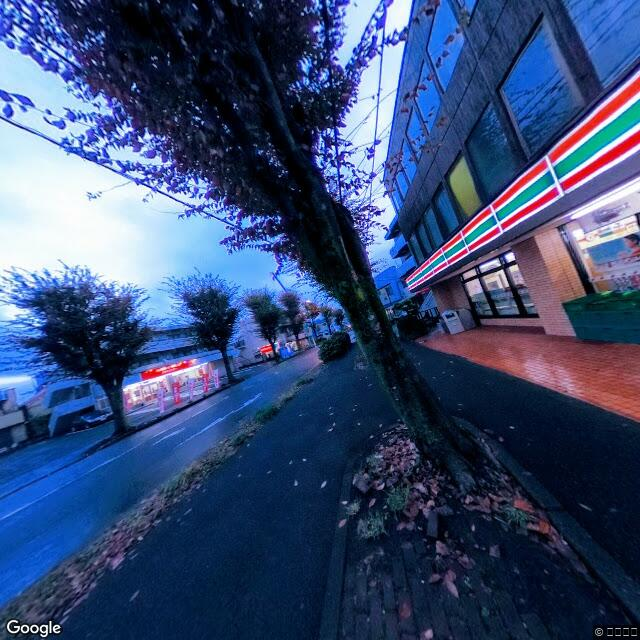7-eleven: (406, 70, 639, 294)
